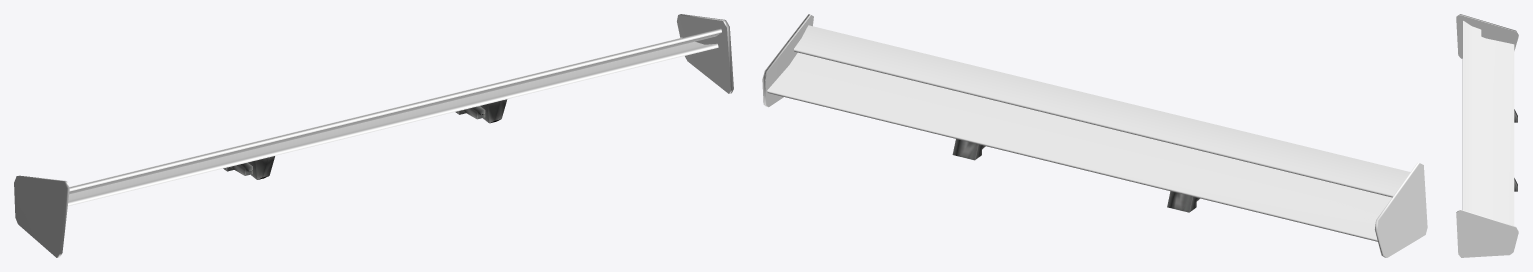
File: spl_b_bbr_l.glb
3 views of the same model, side by side, from view 1: azimuth 30°, elevation 25°; view 2: azimuth 150°, elevation 25°; view 3: azimuth 270°, elevation 25° (orthographic). The views are drawn at different scales.
Parts seen in each view (by area): view 1: spl_b_bbr_l; view 2: spl_b_bbr_l; view 3: spl_b_bbr_l.
Part boxes in pixels (x1=…): spl_b_bbr_l: x1=14, y1=14, x2=733, y2=257; spl_b_bbr_l: x1=762, y1=14, x2=1427, y2=257; spl_b_bbr_l: x1=1456, y1=14, x2=1518, y2=257.
Size of the model in its own units: 1.84 by 0.1975 by 0.2437.
2 materials, 2 textured.
